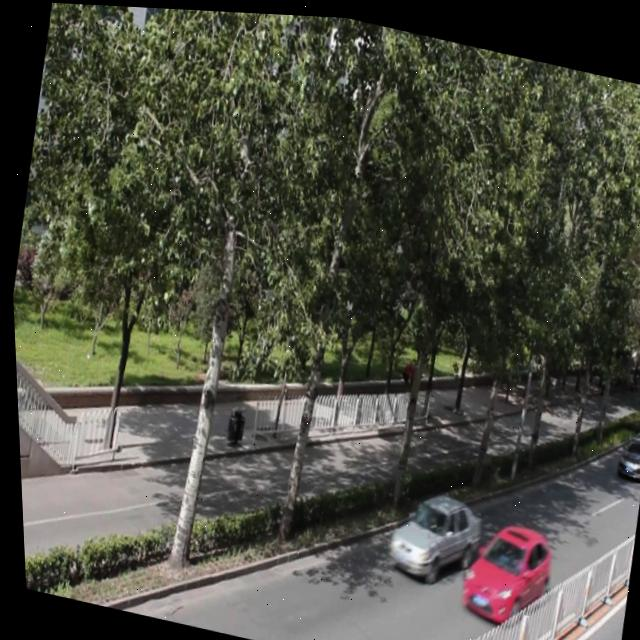car: (449, 508, 551, 632), (378, 479, 480, 587), (608, 425, 640, 476)
